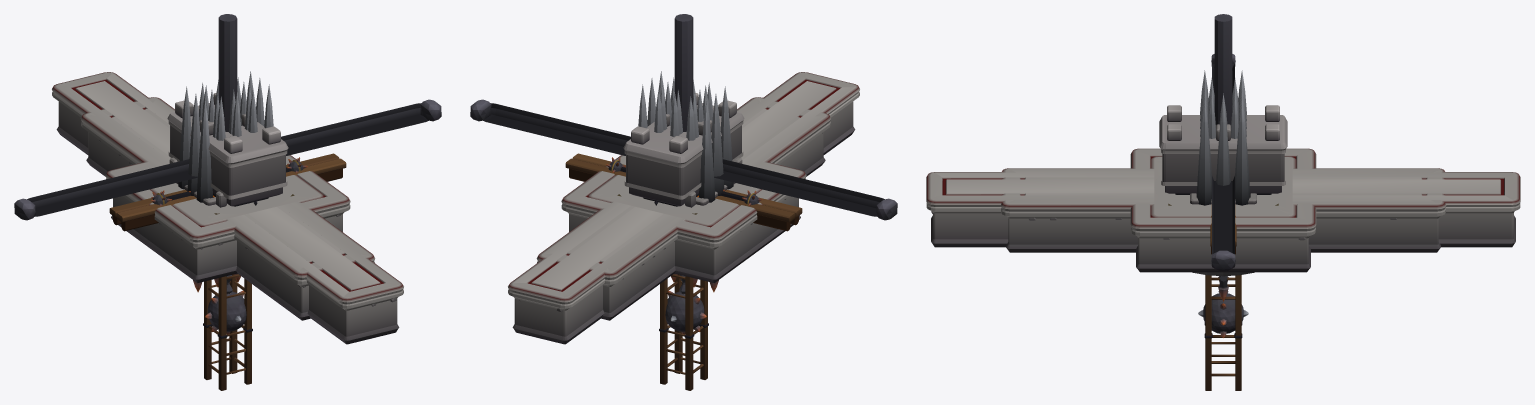
Rendered from fortress-4-CkInW1Nu.glb.
The picture shows the model from 3 angles, left to right: view 1: azimuth 30°, elevation 25°; view 2: azimuth 150°, elevation 25°; view 3: azimuth 270°, elevation 25°; orthographic projection.
Visible parts, largest first — view 1: block_4x2x32_grate#0, block_5x2x24#0, block_10x2x10#0, mount_12.7#0, spout_2x5#0, spikes_5x6x3#0, truss_11.4#0, beam_14x1.5x1.5#0, press_5x6x2#0, block_8x2x8#0, blade_3x9x1#0, disc_8x1.5#0 (+3 smaller); view 2: block_4x2x32_grate#0, block_5x2x24#0, block_10x2x10#0, mount_12.7#0, spout_2x5#0, spikes_5x6x3#0, truss_11.4#0, beam_14x1.5x1.5#0, press_5x6x2#0, block_8x2x8#0, blade_3x9x1#0, disc_8x1.5#0 (+2 smaller); view 3: block_4x2x32_grate#0, block_5x2x24#0, block_10x2x10#0, spout_2x5#0, spikes_5x6x3#0, mount_12.7#0, truss_11.4#0, press_5x6x2#0, block_8x2x8#0, disc_8x1.5#0, blade_3x9x1#0, spikes_3x6x2.5#0 (+2 smaller).
Part boxes in pixels (box(x1,y1,x2,y2)): block_4x2x32_grate#0: box(52, 72, 403, 344); block_5x2x24#0: box(80, 97, 375, 320); block_10x2x10#0: box(105, 155, 350, 282); mount_12.7#0: box(14, 99, 441, 220); spout_2x5#0: box(167, 92, 288, 207); spikes_5x6x3#0: box(178, 71, 273, 202); truss_11.4#0: box(203, 274, 252, 390); beam_14x1.5x1.5#0: box(109, 153, 346, 231); press_5x6x2#0: box(193, 14, 240, 292); block_8x2x8#0: box(150, 175, 323, 226); blade_3x9x1#0: box(205, 275, 246, 334); disc_8x1.5#0: box(160, 175, 296, 273); block_4x2x32_grate#0: box(508, 72, 859, 344); block_5x2x24#0: box(536, 97, 831, 320); block_10x2x10#0: box(561, 155, 806, 282); mount_12.7#0: box(470, 99, 897, 220); spout_2x5#0: box(623, 92, 744, 207); spikes_5x6x3#0: box(638, 71, 733, 202); truss_11.4#0: box(659, 274, 708, 390); beam_14x1.5x1.5#0: box(565, 153, 802, 231); press_5x6x2#0: box(671, 14, 718, 292); block_8x2x8#0: box(588, 175, 761, 226); blade_3x9x1#0: box(665, 275, 706, 334); disc_8x1.5#0: box(615, 175, 751, 273); block_4x2x32_grate#0: box(926, 172, 1520, 247); block_5x2x24#0: box(1000, 168, 1446, 252); block_10x2x10#0: box(1130, 148, 1316, 272); spout_2x5#0: box(1159, 105, 1287, 194); spikes_5x6x3#0: box(1196, 70, 1250, 205); mount_12.7#0: box(1211, 54, 1235, 270); truss_11.4#0: box(1204, 275, 1242, 390); press_5x6x2#0: box(1214, 14, 1232, 301); block_8x2x8#0: box(1150, 156, 1296, 217); disc_8x1.5#0: box(1154, 173, 1292, 276); blade_3x9x1#0: box(1198, 291, 1248, 337); spikes_3x6x2.5#0: box(1208, 78, 1238, 138).
Bounding box in the file's own units: 26.3 × 21.7 × 32.
